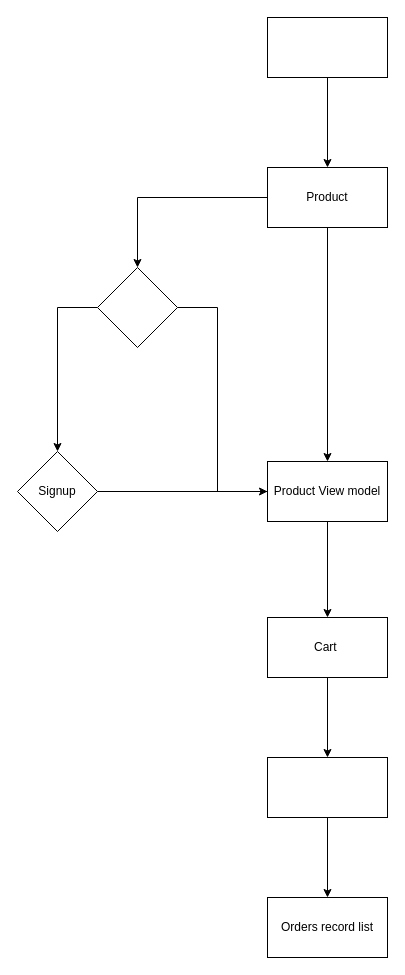
Image size: 405x975. Some labels were removed from this diagram. Here are the shapes that lost their labels. From the top down, the box of each, then its label:
(266, 16, 388, 78): Client
(96, 266, 178, 348): login
(266, 756, 388, 818): Chapa Payment
